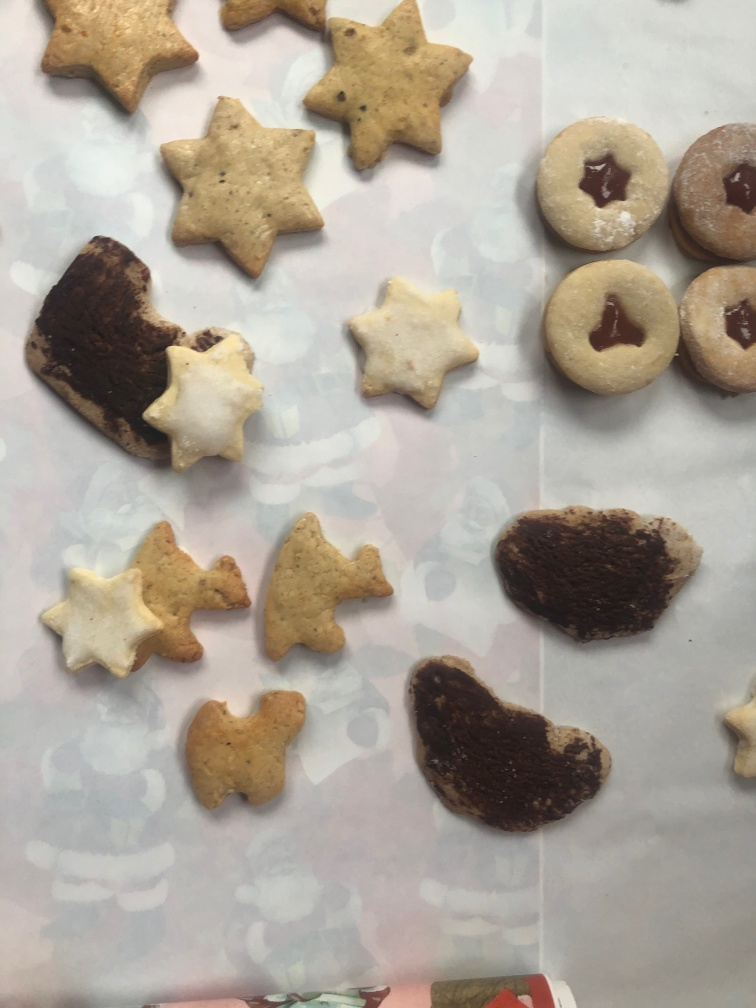christmas shortbread with jam: (541, 255, 680, 396), (535, 116, 670, 257), (671, 118, 755, 265), (679, 259, 755, 401)
lamb: (252, 510, 394, 678), (126, 517, 254, 667), (181, 685, 314, 829)
star: (153, 89, 328, 280), (306, 1, 470, 178), (345, 272, 498, 425), (35, 1, 198, 116), (144, 331, 265, 470), (37, 556, 164, 678), (723, 674, 756, 788)
weird #1: (403, 653, 615, 835), (17, 234, 177, 461), (487, 501, 704, 646)
